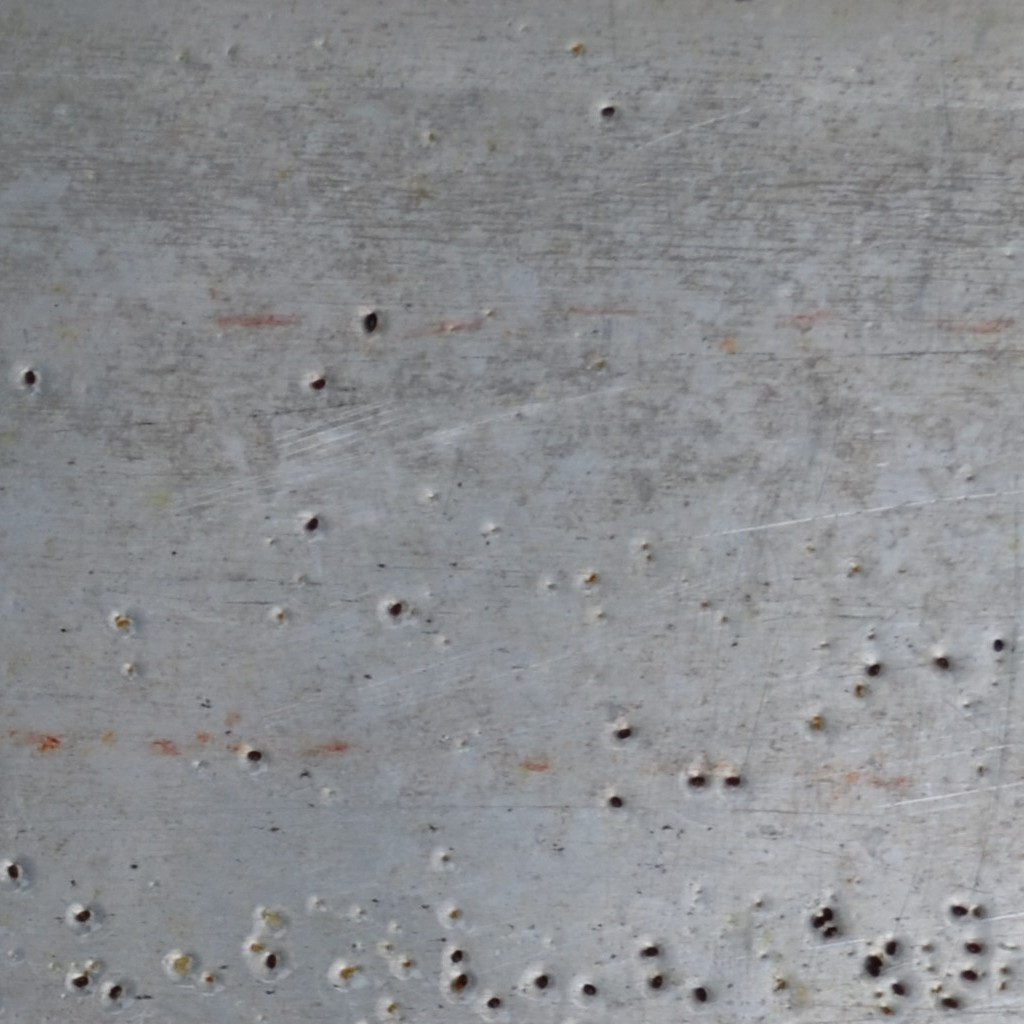varroa: (360, 308, 381, 335), (948, 900, 969, 922), (963, 937, 986, 957), (686, 769, 708, 789), (385, 598, 404, 621), (959, 965, 982, 984), (451, 969, 469, 993), (611, 724, 636, 741), (307, 375, 328, 395), (244, 745, 265, 765), (73, 904, 93, 925), (693, 982, 710, 1006), (864, 658, 884, 678), (302, 513, 320, 535), (607, 789, 625, 811), (934, 654, 953, 674), (940, 993, 961, 1011), (21, 368, 39, 388), (531, 972, 551, 990), (721, 771, 742, 788), (262, 950, 279, 971), (647, 971, 665, 990), (598, 102, 618, 119), (882, 937, 899, 957), (70, 975, 90, 992), (641, 943, 662, 959), (890, 979, 907, 998), (485, 995, 502, 1013), (821, 903, 837, 922), (6, 861, 20, 882), (447, 947, 464, 964), (106, 983, 123, 1000), (810, 913, 828, 929), (867, 952, 886, 967), (864, 963, 883, 978), (580, 983, 600, 997), (991, 636, 1005, 654)
